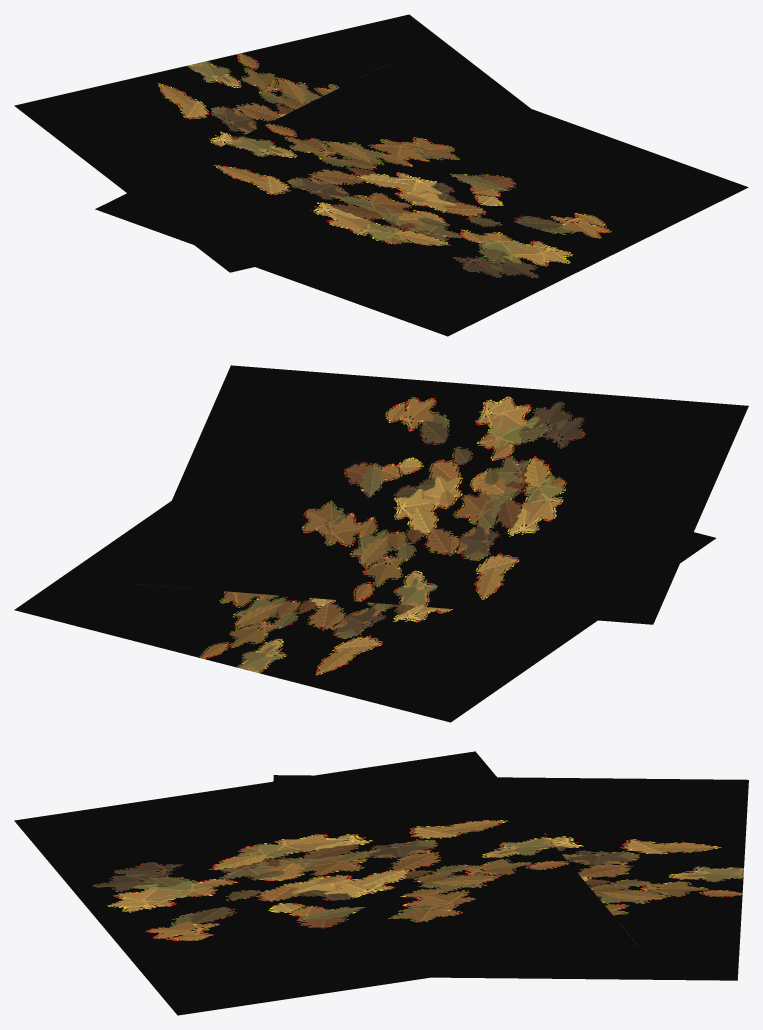
File: Ground Litter.glb
3 renders of one model, top to bottom at view 1: azimuth 30°, elevation 25°; view 2: azimuth 150°, elevation 25°; view 3: azimuth 270°, elevation 25°, orthographic. The views are drawn at different scales.
Parts seen in each view (by area): view 1: Ground Litter; view 2: Ground Litter; view 3: Ground Litter.
Boxes of the visible parts, left/top/right/bottom form: Ground Litter: left=14, top=14, right=748, bottom=336; Ground Litter: left=14, top=365, right=748, bottom=722; Ground Litter: left=14, top=751, right=748, bottom=1015.
Bounding box in the file's own units: 1.35 × 0.008 × 1.59.
1 material, 1 textured.
